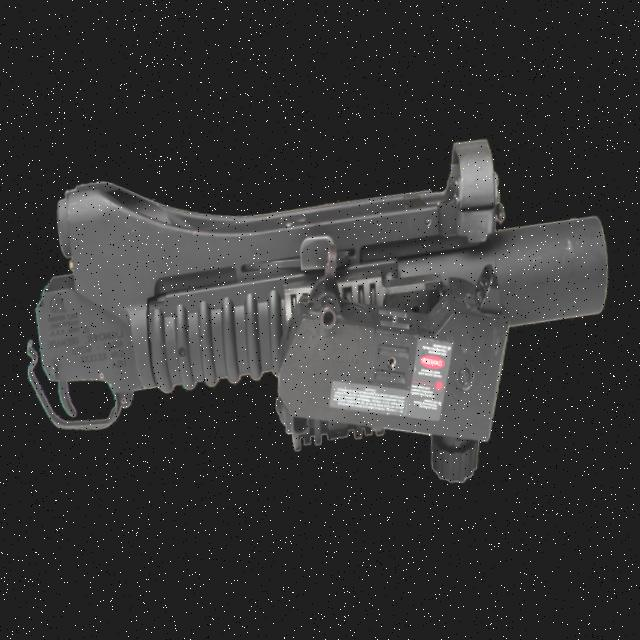rocket: (8, 100, 621, 499)
